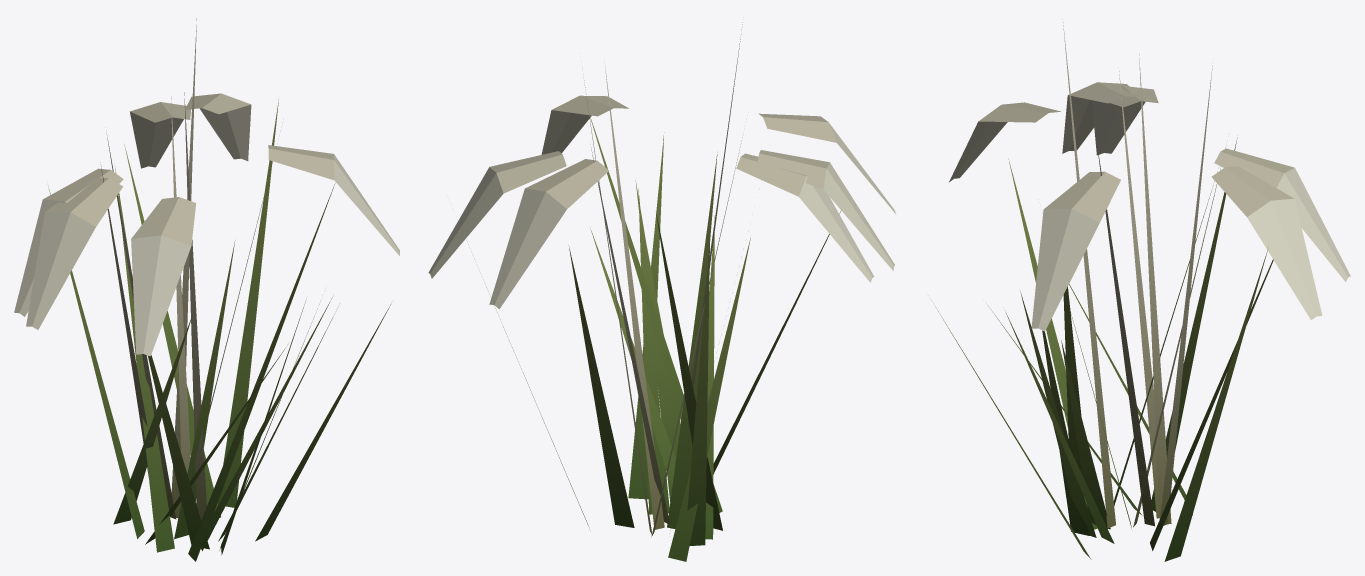
File: env_susuki.glb
3 renders of one model, left to right at view 1: azimuth 30°, elevation 25°; view 2: azimuth 150°, elevation 25°; view 3: azimuth 270°, elevation 25°, orthographic. The views are drawn at different scales.
Visible parts, largest first — view 1: env_susuki; view 2: env_susuki; view 3: env_susuki.
Boxes of the visible parts, x1,y1,x2,y2 form: env_susuki: (14, 18, 399, 561); env_susuki: (428, 22, 896, 561); env_susuki: (931, 19, 1350, 561).
Bounding box in the file's own units: 1.42 × 1.82 × 1.41.
